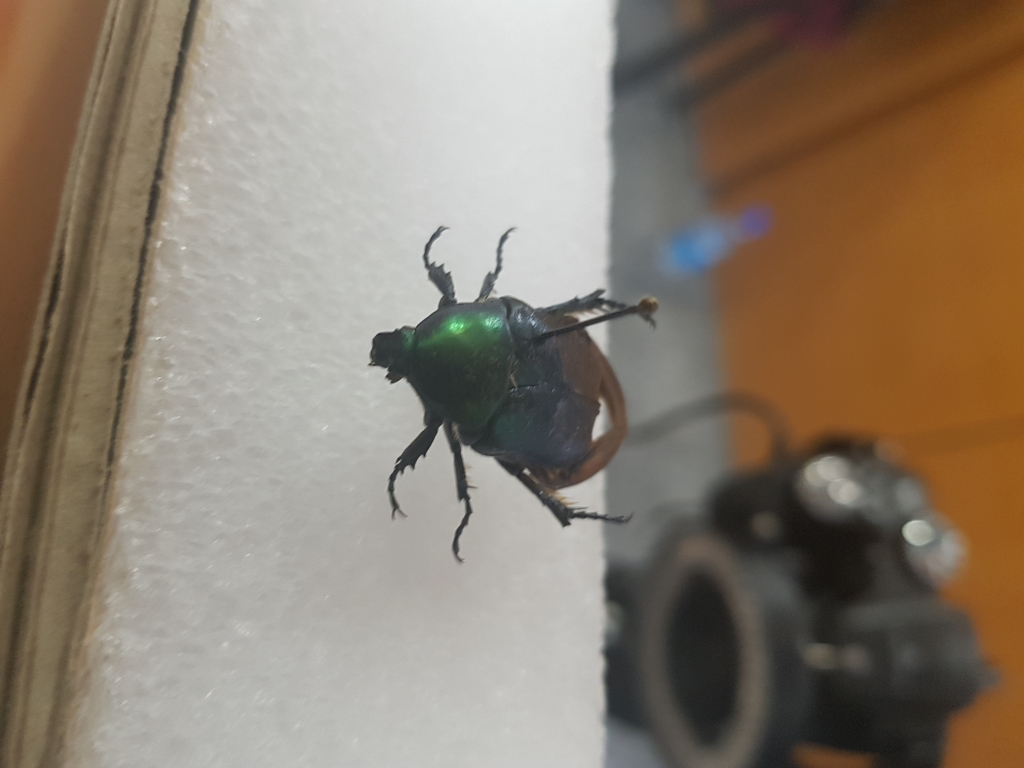Protaetia_angustata_angustata: (359, 214, 658, 585)
